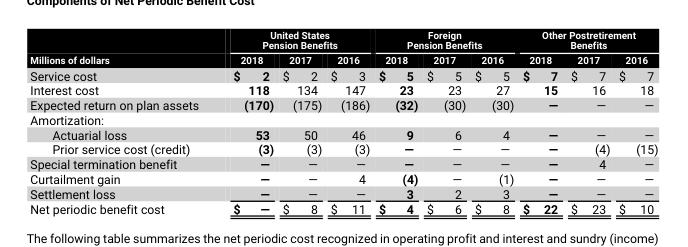table: (29, 29, 657, 215)
table column: (29, 29, 215, 215), (215, 29, 277, 215), (563, 29, 613, 215), (277, 29, 325, 215), (325, 29, 373, 215), (373, 29, 421, 215), (421, 29, 469, 215), (469, 29, 517, 215), (517, 29, 563, 215), (613, 29, 657, 215)
table column header: (29, 29, 657, 66)
table projected row header: (29, 112, 657, 127)
table row: (29, 29, 657, 52), (29, 66, 657, 82), (29, 82, 657, 97), (29, 97, 657, 112), (29, 112, 657, 127), (29, 141, 657, 156), (29, 156, 657, 171), (29, 171, 657, 186), (29, 200, 657, 215), (29, 52, 657, 66), (29, 127, 657, 141), (29, 186, 657, 200)
table spanning cell: (29, 29, 215, 66), (215, 29, 373, 52), (373, 29, 517, 52), (517, 29, 657, 52)
